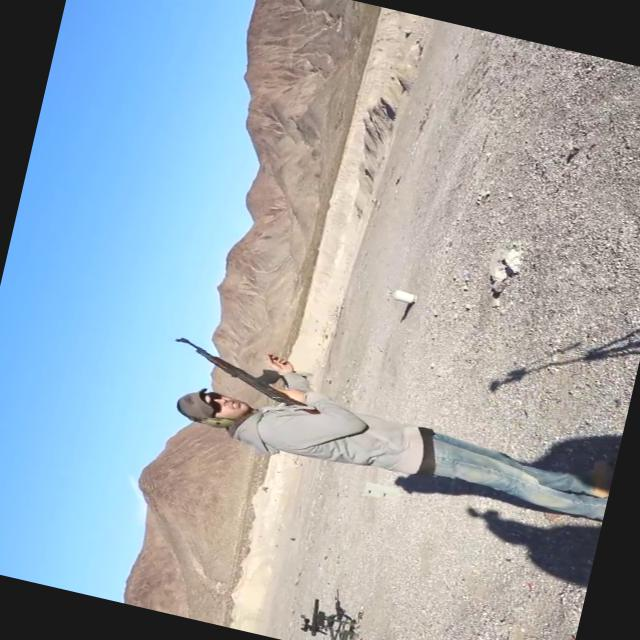long weapon: (142, 321, 356, 422), (266, 584, 364, 639)
